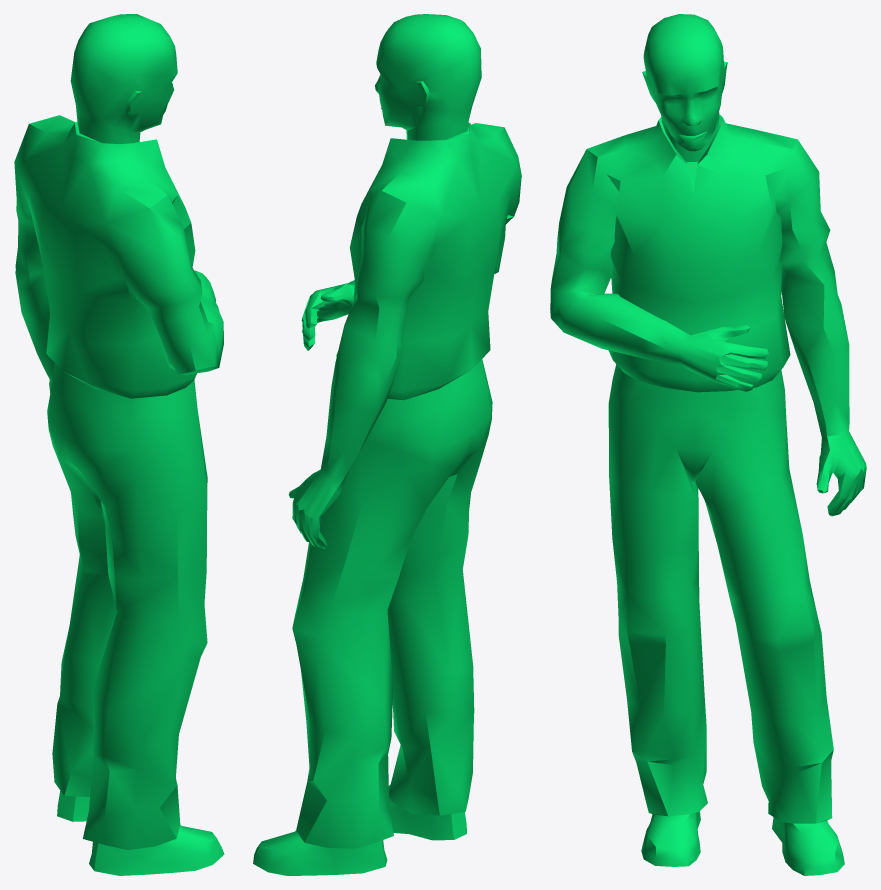
The model's file is SM_Man_Stand_Talking.glb.
3 renders of one model, left to right at view 1: azimuth 30°, elevation 25°; view 2: azimuth 150°, elevation 25°; view 3: azimuth 270°, elevation 25°, orthographic. The views are drawn at different scales.
Visible parts, largest first — view 1: SM_Man_Stand_Talking; view 2: SM_Man_Stand_Talking; view 3: SM_Man_Stand_Talking.
Boxes of the visible parts, x1,y1,x2,y2 form: SM_Man_Stand_Talking: (14,14,224,875); SM_Man_Stand_Talking: (253,14,521,875); SM_Man_Stand_Talking: (550,14,866,875).
Bounding box in the file's own units: 0.3861 × 1.81 × 0.6461.
